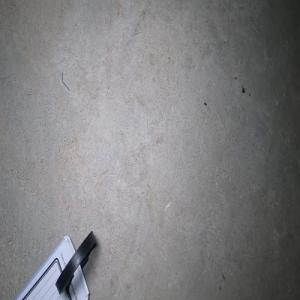LuggageTag: (8, 229, 97, 300)
